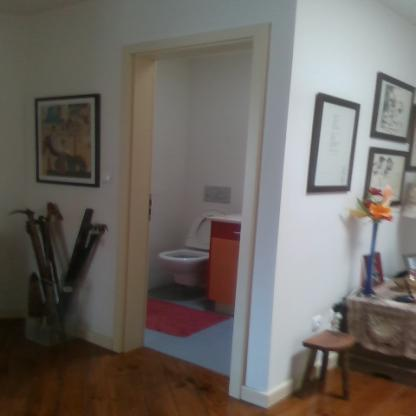open: (113, 29, 277, 381)
